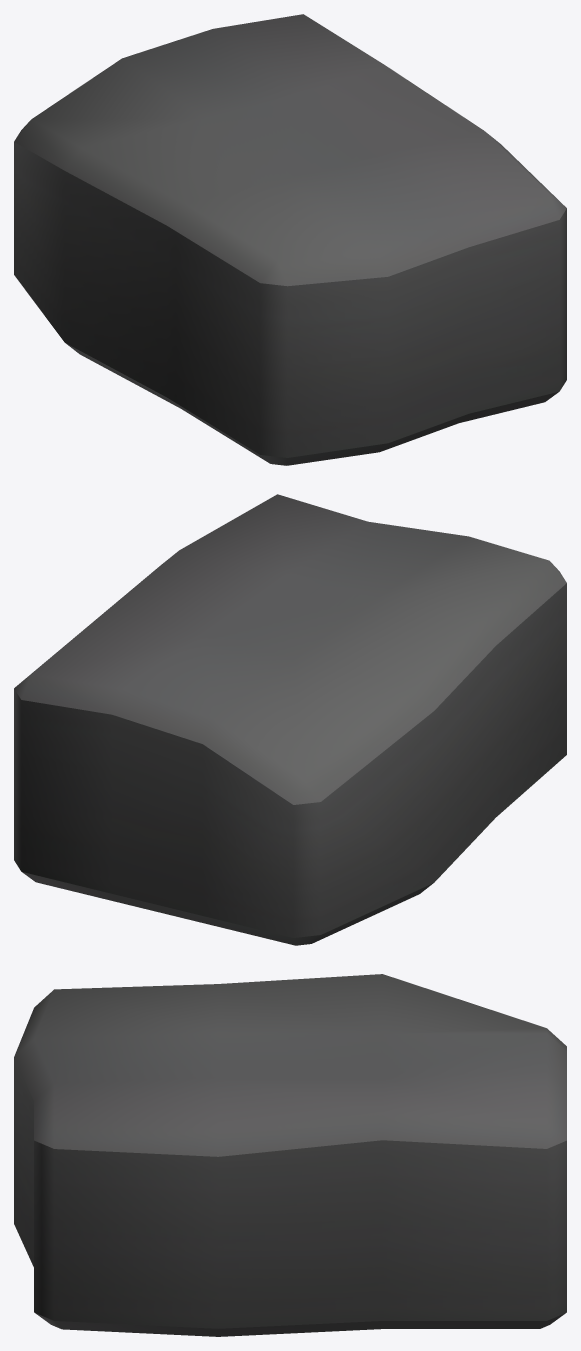
Rendered from StoneBlock_1_1.obj.
3 views of the same model, one above another, from view 1: azimuth 30°, elevation 25°; view 2: azimuth 150°, elevation 25°; view 3: azimuth 270°, elevation 25° (orthographic).
Visible parts, largest first — view 1: StoneBlock_1_1; view 2: StoneBlock_1_1; view 3: StoneBlock_1_1.
Boxes of the visible parts, x1=… form: StoneBlock_1_1: x1=14, y1=14, x2=566, y2=465; StoneBlock_1_1: x1=14, y1=494, x2=566, y2=945; StoneBlock_1_1: x1=14, y1=974, x2=566, y2=1336.
Size of the model in its own units: 0.5361 by 0.3093 by 0.7236.
